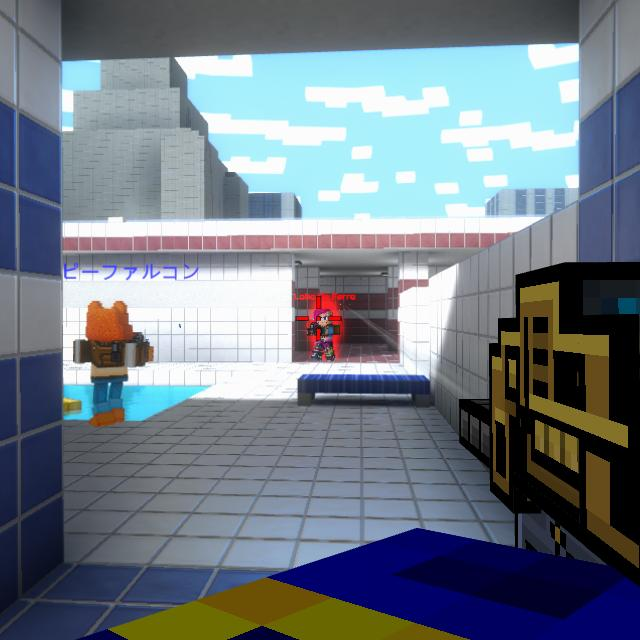Enemy: (307, 310, 340, 363)
